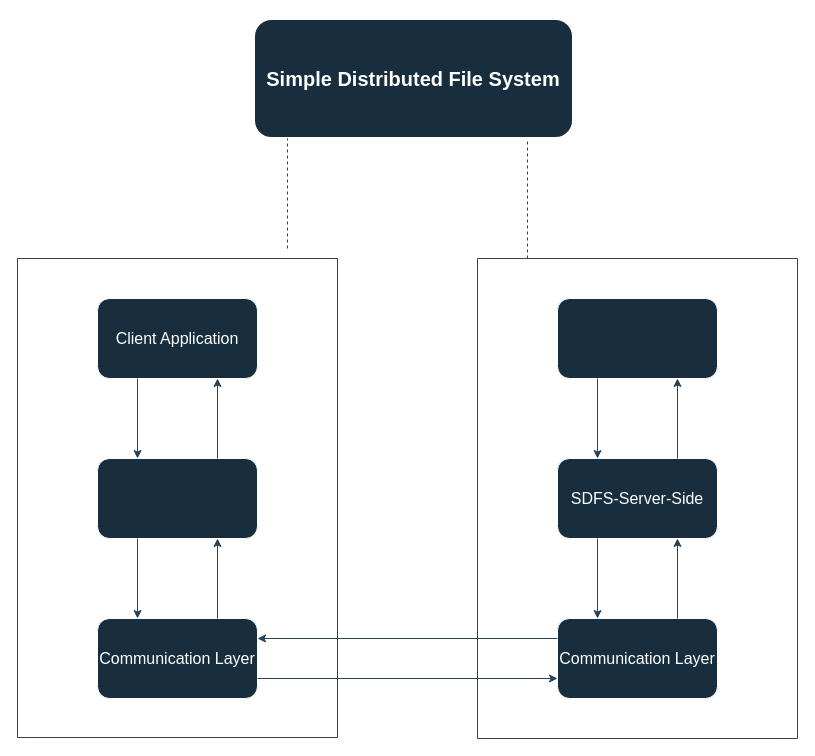
This 815x756 diagram has some shape labels left out. The shapes that lost their labels are listed below. From the top down, each one's centre as x and y in pixels, then its label:
At pixel 637 338: "Basic Unix File System".
At pixel 177 498: "SDFS-Clienet-Side".
